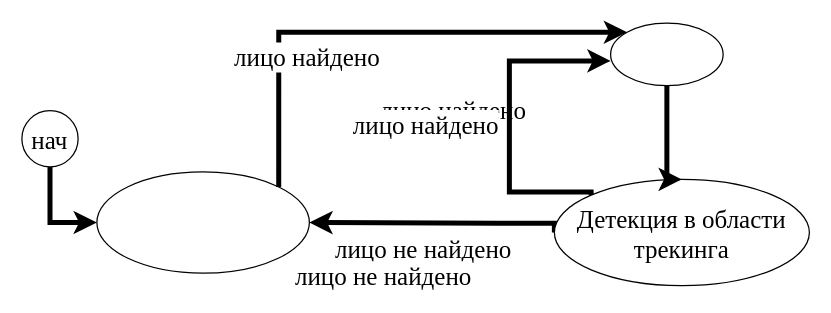
Some shapes in this 831 by 313 pixel diagram are drawn without their labels. The box of each missing label's shape, as (x1, y1, x2, y2) in pixels:
Детекция в общем кадре: (96, 171, 309, 273)
Трекинг: (609, 22, 723, 86)
